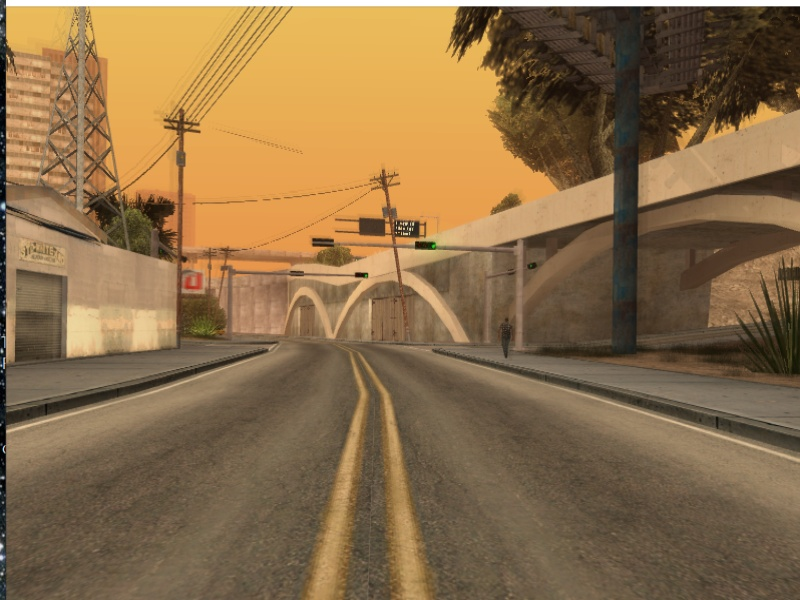person: (496, 316, 516, 357)
pole: (513, 248, 527, 351), (224, 268, 238, 342)
